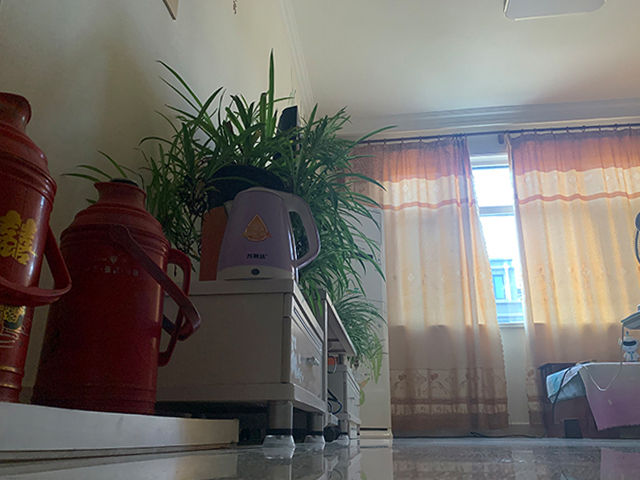cabinet: (158, 275, 362, 449)
curtain: (338, 126, 508, 432), (506, 123, 640, 434)
sofa: (538, 361, 640, 440)
wire: (469, 366, 570, 440)
